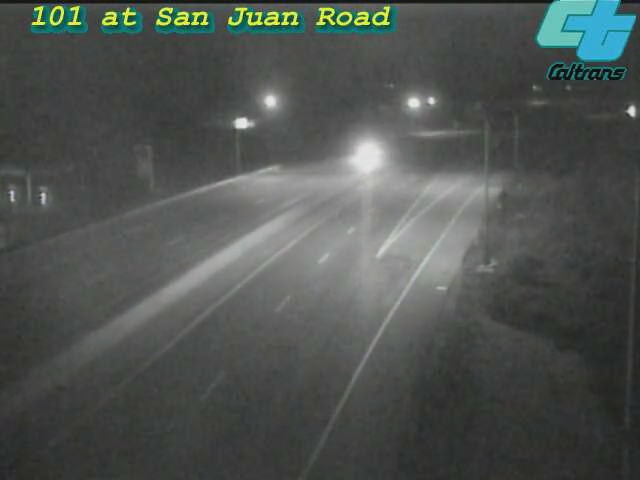vehicle: (338, 130, 388, 180), (604, 86, 640, 136)
